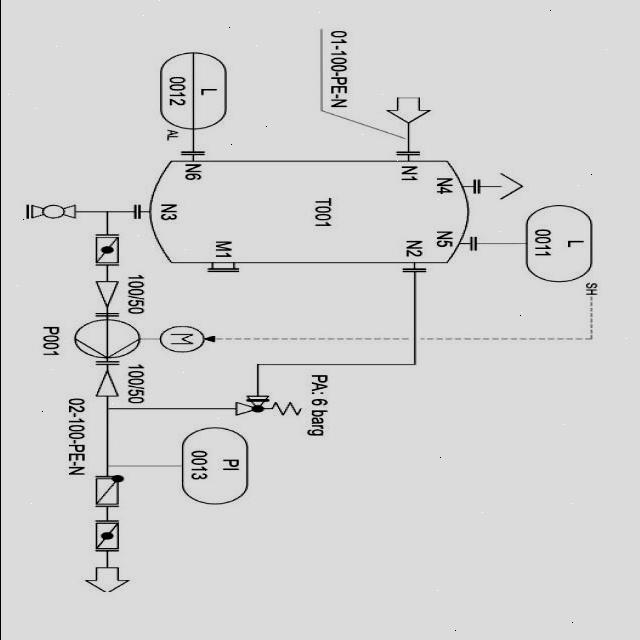Ball Valve: (27, 193, 85, 232)
PSV: (227, 394, 308, 422)
